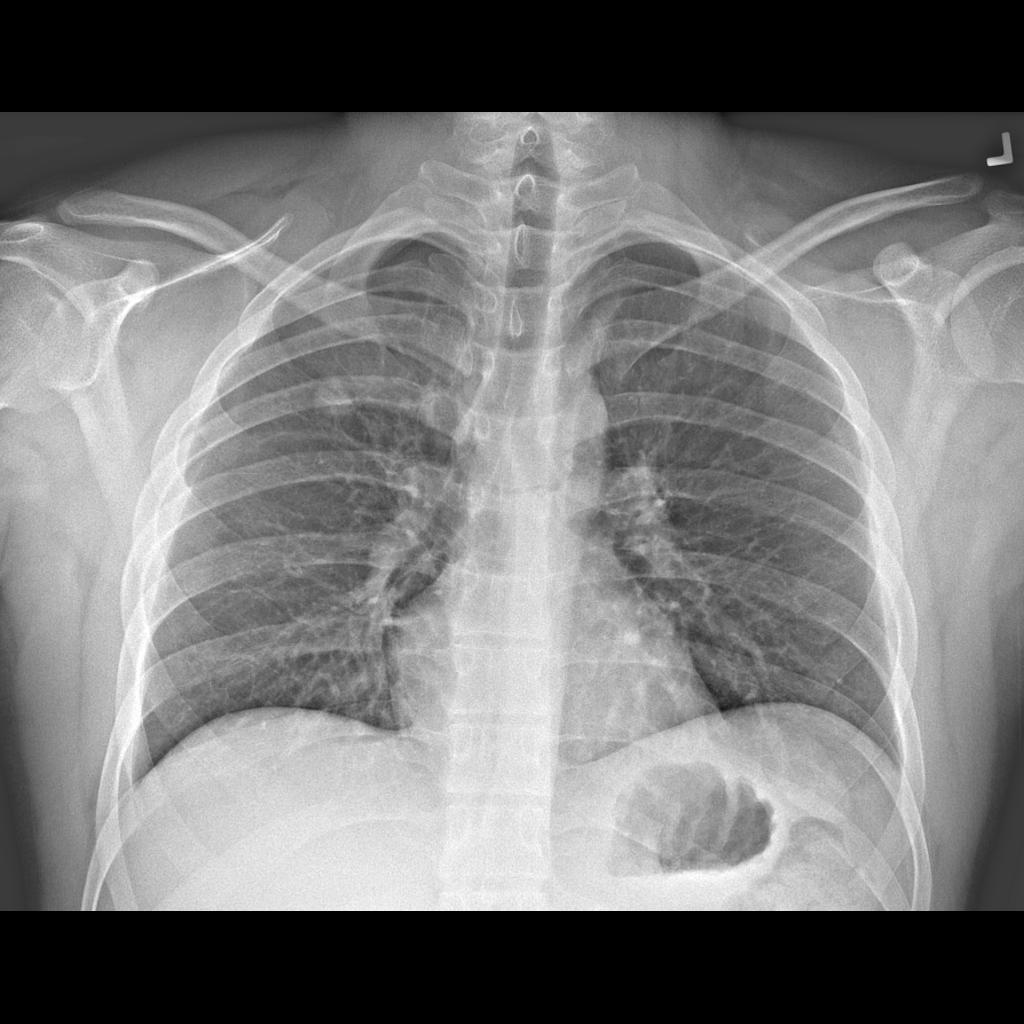Nodule: (313, 372, 350, 422)
